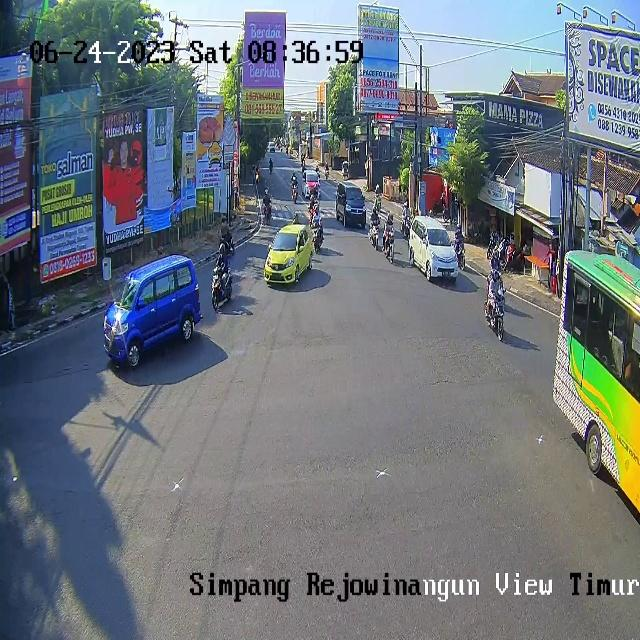bus: (210, 266, 233, 310), (486, 289, 504, 341), (218, 227, 236, 258), (368, 218, 380, 249), (312, 220, 324, 251), (454, 236, 464, 270), (262, 200, 274, 225), (388, 229, 396, 266), (401, 214, 412, 239), (291, 183, 299, 204)
car: (552, 250, 640, 512)
motorcycle: (104, 253, 202, 369), (408, 214, 459, 282), (263, 224, 312, 284), (337, 181, 368, 226), (301, 170, 321, 198)
